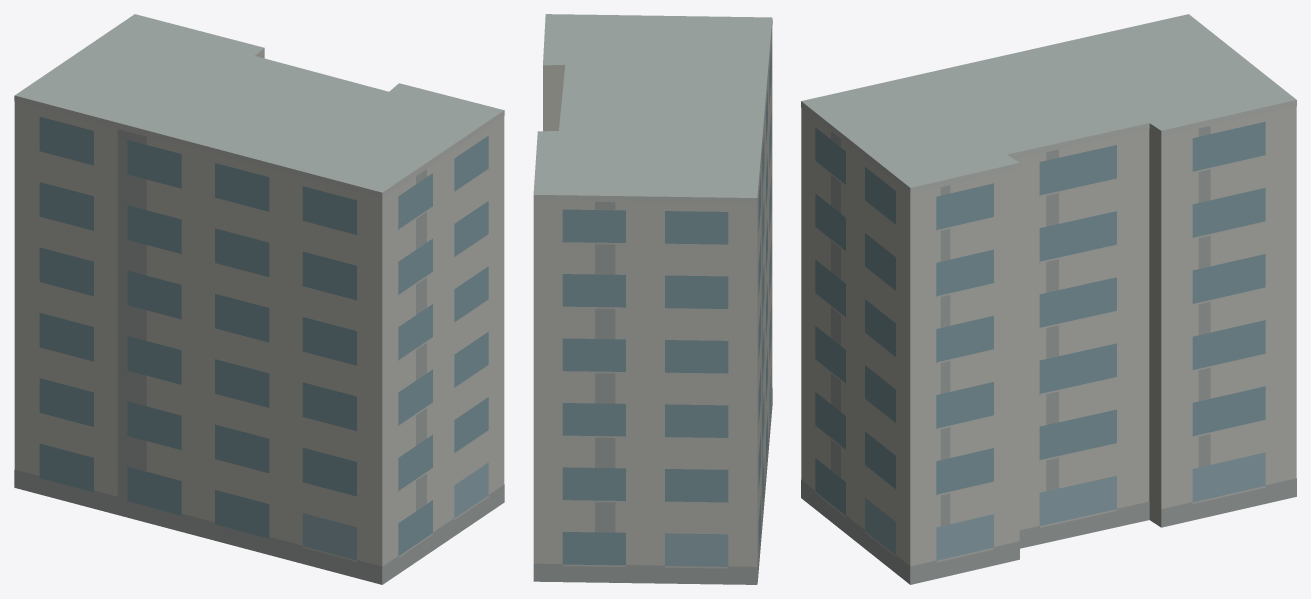
File: survey-upis-33000775.glb
The picture shows the model from 3 angles, left to right: view 1: azimuth 30°, elevation 25°; view 2: azimuth 150°, elevation 25°; view 3: azimuth 270°, elevation 25°; orthographic projection. The views are drawn at different scales.
Parts seen in each view (by area): view 1: survey-upis-33000775.tmp; view 2: survey-upis-33000775.tmp; view 3: survey-upis-33000775.tmp.
Boxes of the visible parts, x1,y1,x2,y2 form: survey-upis-33000775.tmp: (14, 14, 504, 584); survey-upis-33000775.tmp: (533, 14, 772, 584); survey-upis-33000775.tmp: (801, 14, 1296, 584).
Bounding box in the file's own units: 14.3 × 15.2 × 17.21.
